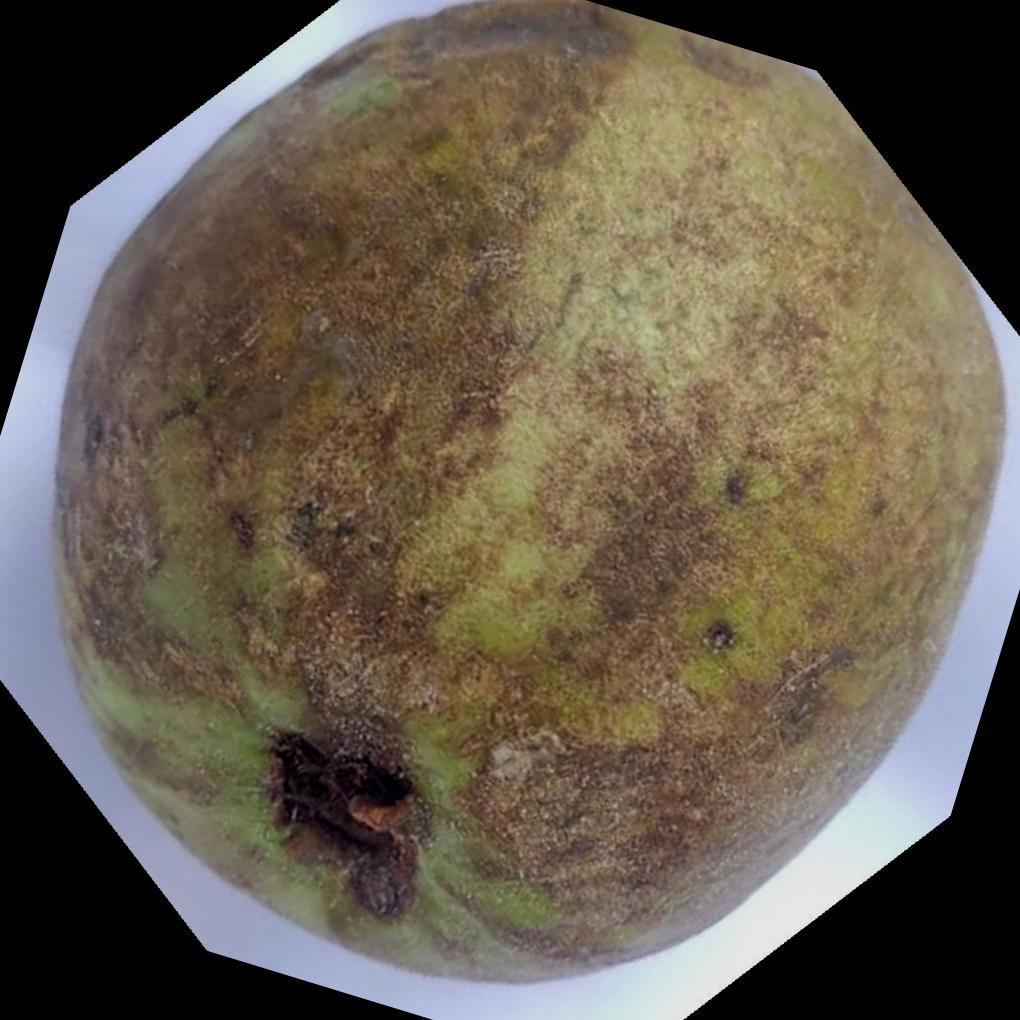FreshOrange: (47, 0, 1008, 991)
